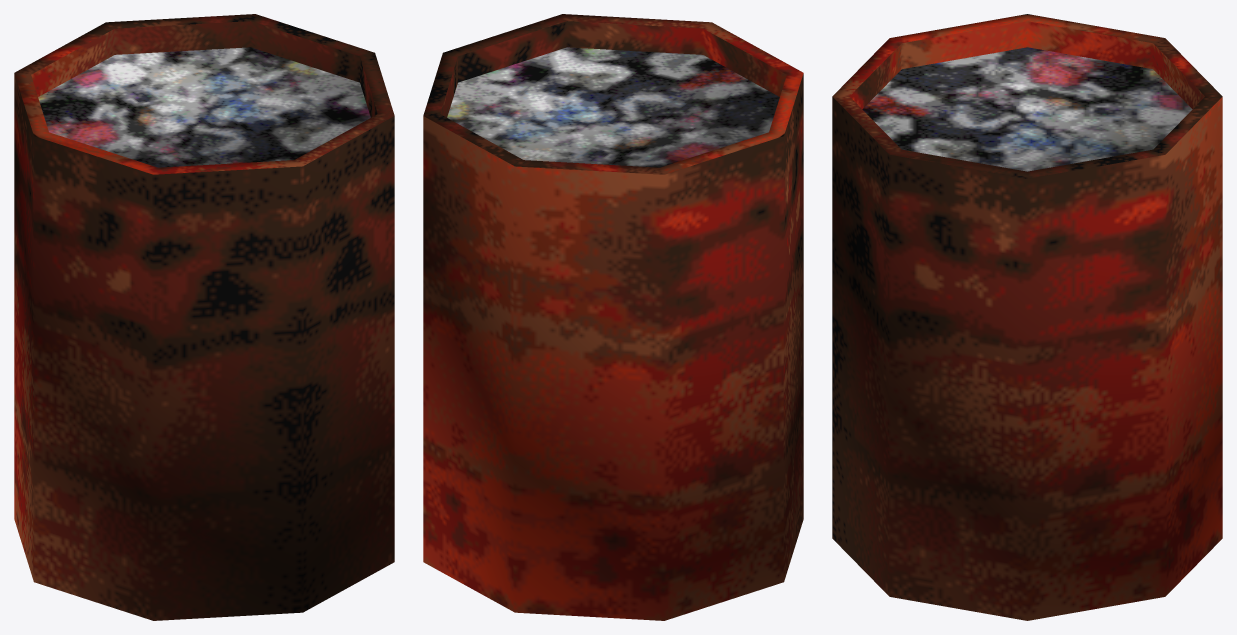
File: barrel.fbx
3 renders of one model, left to right at view 1: azimuth 30°, elevation 25°; view 2: azimuth 150°, elevation 25°; view 3: azimuth 270°, elevation 25°, orthographic.
Visible parts, largest first — view 1: Barrel; view 2: Barrel; view 3: Barrel.
Boxes of the visible parts, x1,y1,x2,y2 form: Barrel: (14,14,394,620); Barrel: (423,14,803,620); Barrel: (832,14,1222,620).
Bounding box in the file's own units: 80 × 100 × 80.
